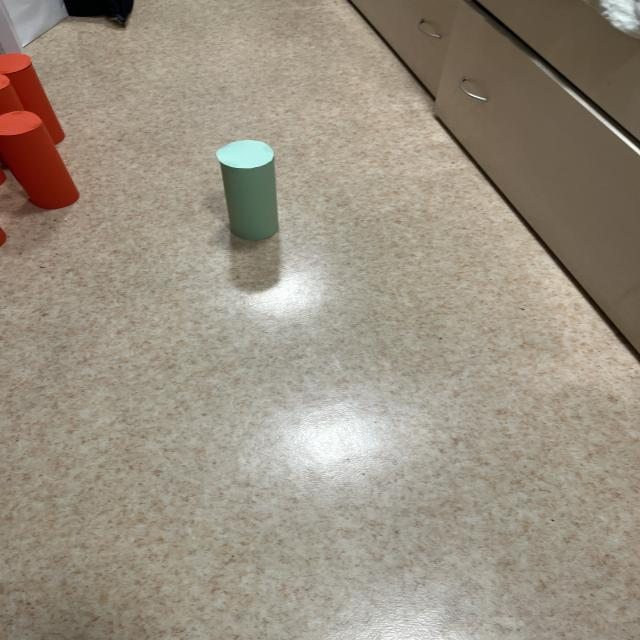meta: (216, 140, 278, 240)
